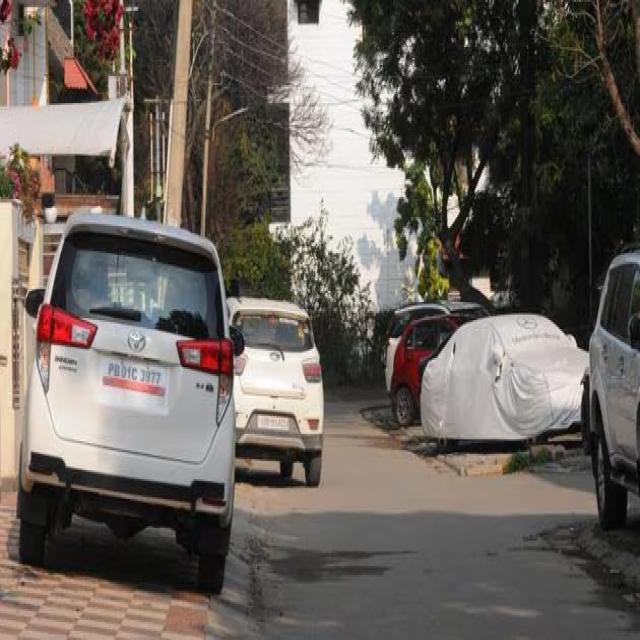plate: (98, 355, 166, 399), (253, 413, 295, 432)
